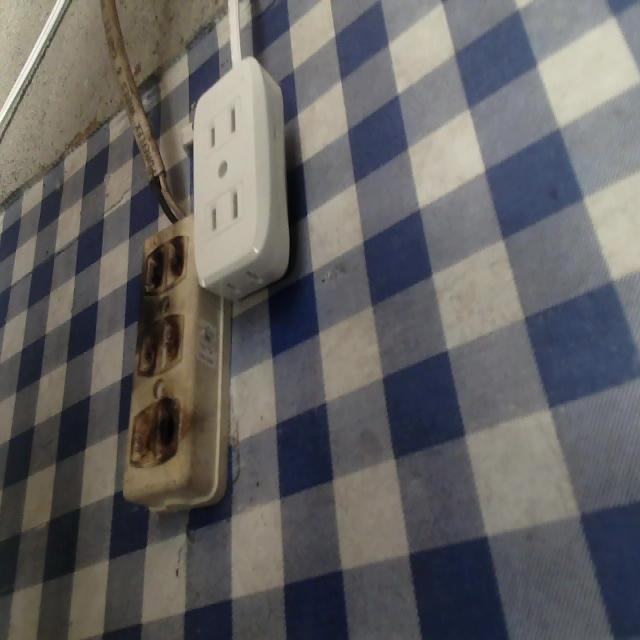-: (126, 392, 192, 472), (127, 233, 192, 306), (128, 317, 192, 388)
